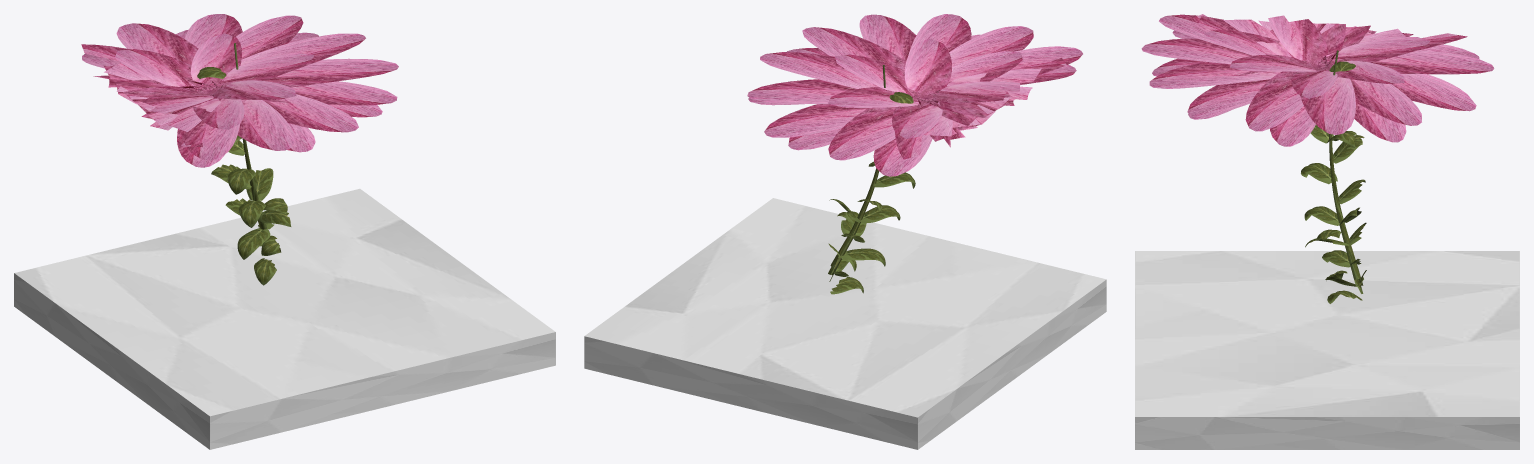
Rendered from flores.DAE.
3 views of the same model, side by side, from view 1: azimuth 30°, elevation 25°; view 2: azimuth 150°, elevation 25°; view 3: azimuth 270°, elevation 25° (orthographic). The views are drawn at different scales.
Visible parts, largest first — view 1: Box001, Object001, sub01; view 2: Box001, Object001, sub01; view 3: Box001, Object001, sub01.
Part boxes in pixels (x1,y1,x2,y2): Box001: [14, 188, 555, 449]; Object001: [81, 14, 398, 167]; sub01: [197, 43, 291, 285]; Box001: [584, 198, 1106, 449]; Object001: [747, 14, 1082, 176]; sub01: [828, 65, 915, 294]; Box001: [1135, 251, 1519, 449]; Object001: [1141, 14, 1494, 146]; sub01: [1301, 50, 1366, 303].
Size of the model in its own units: 131 by 128 by 108.
3 materials, 3 textured.
